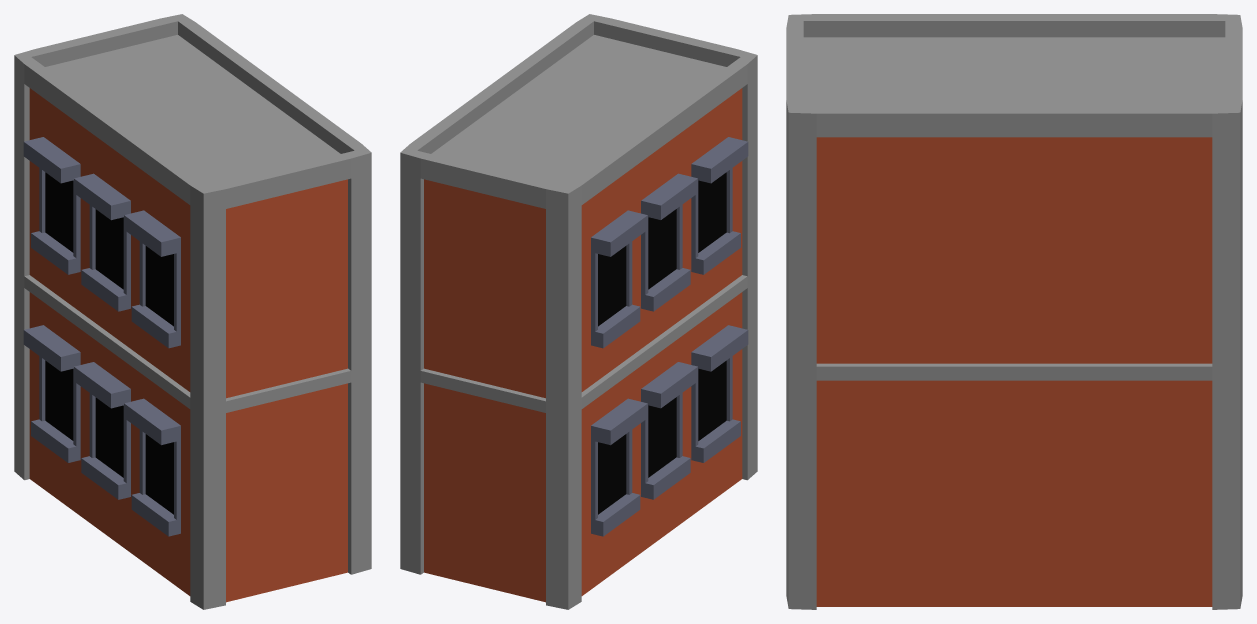
The model's file is building_2_001.glb.
3 renders of one model, left to right at view 1: azimuth 30°, elevation 25°; view 2: azimuth 150°, elevation 25°; view 3: azimuth 270°, elevation 25°, orthographic. The views are drawn at different scales.
Parts seen in each view (by area): view 1: building_2.001; view 2: building_2.001; view 3: building_2.001.
Part boxes in pixels (x1,y1,x2,y2): building_2.001: (14,14,371,609); building_2.001: (400,14,757,609); building_2.001: (786,14,1242,609).
Size of the model in its own units: 2.32 by 4.95 by 4.13.
